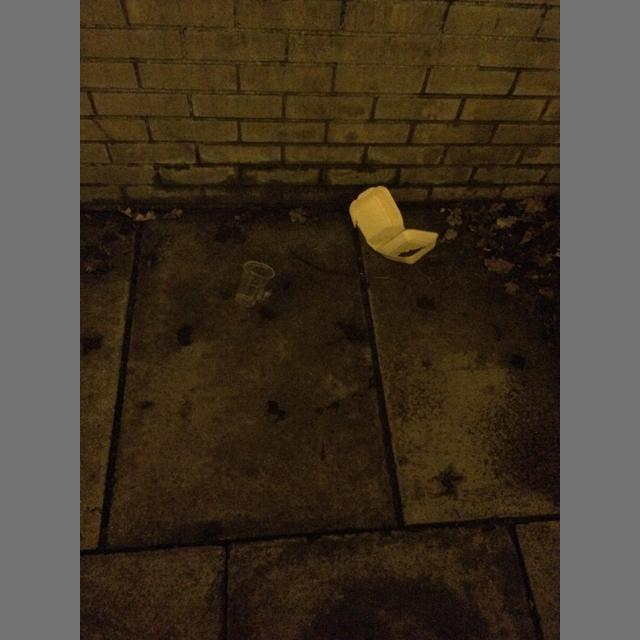litter: (349, 186, 439, 265), (235, 261, 275, 307)
